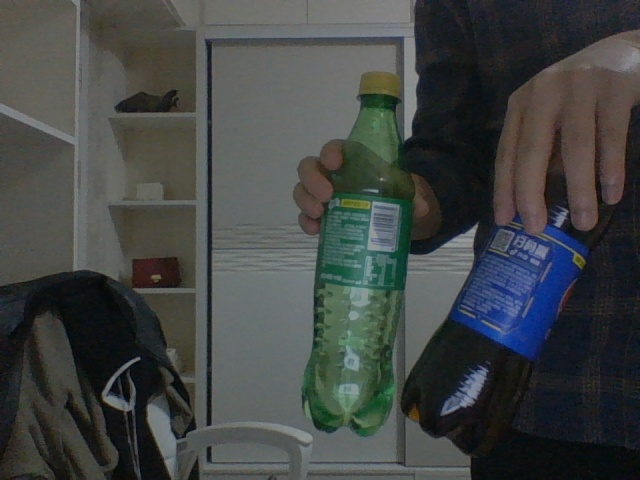Cola: (404, 166, 614, 457)
Sprite: (300, 71, 415, 435)
